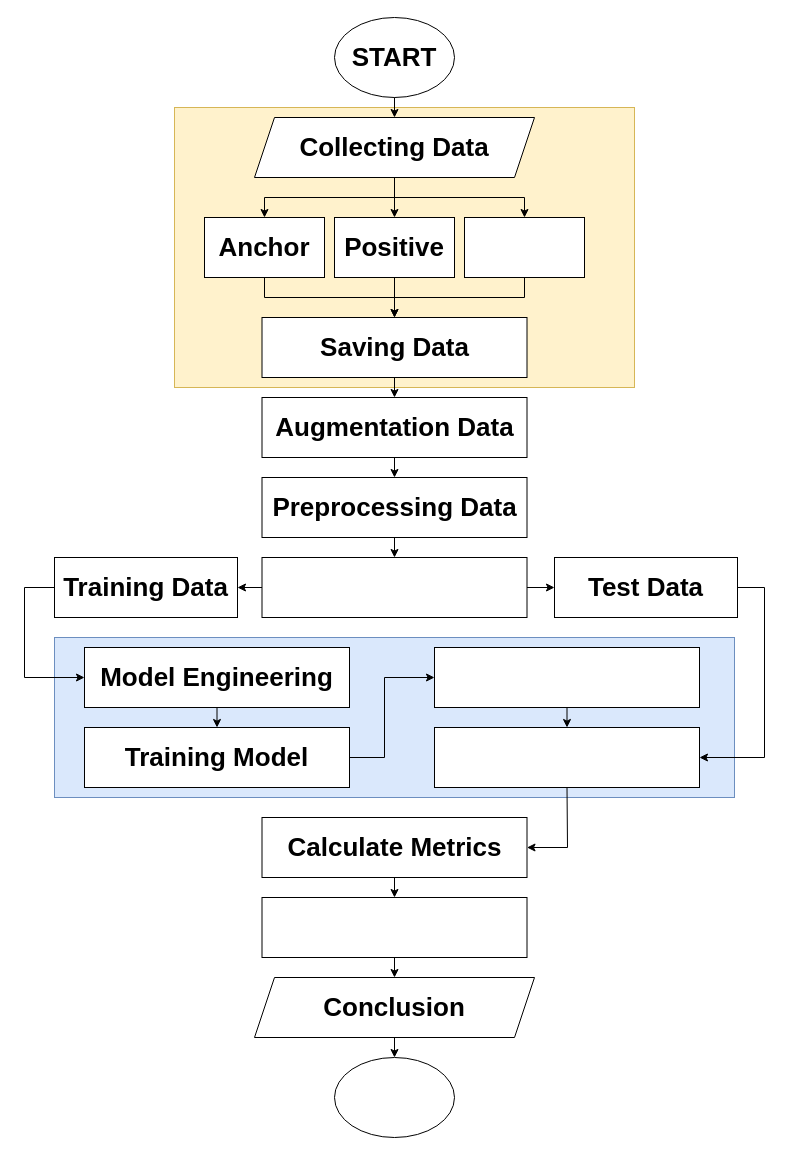
Image size: 790x1155. Some labels were removed from this diagram. Each missing label, with the centre of its shape:
Evaluate Model: the point at 567,677
Finish: the point at 394,1097
Labelling Data: the point at 394,587
Negative: the point at 524,247
Predict: the point at 567,757
Real Time Test: the point at 394,927
